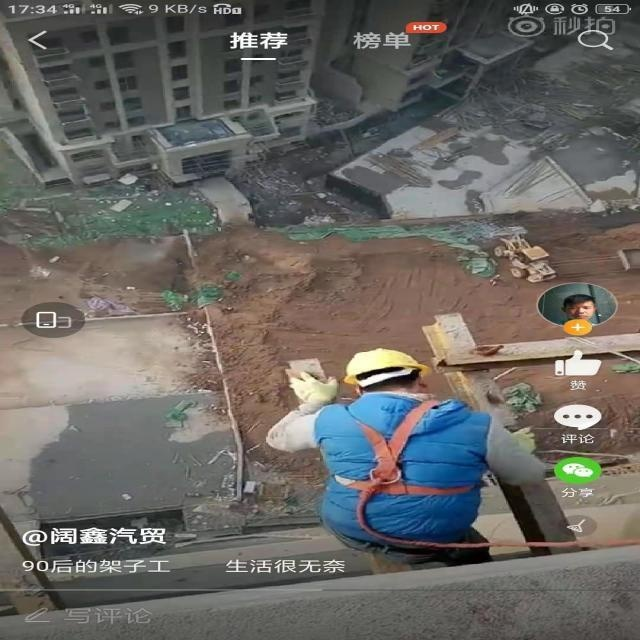Arnes_seguridad: (307, 395, 501, 552)
